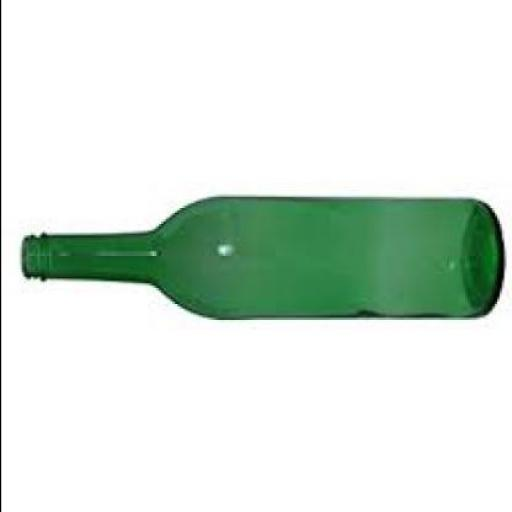glass: (18, 199, 501, 322)
